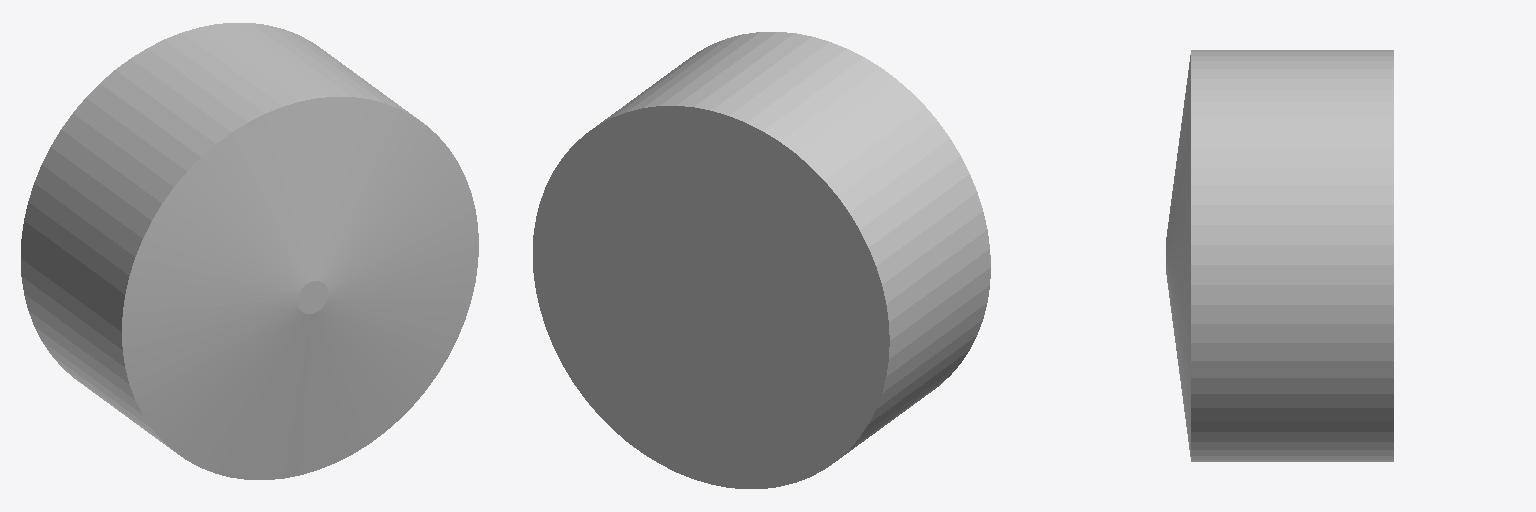
The model's file is Candle3aux.obj.
The picture shows the model from 3 angles: view 1: azimuth 30°, elevation 25°; view 2: azimuth 150°, elevation 25°; view 3: azimuth 270°, elevation 25°; orthographic projection.
Parts seen in each view (by area): view 1: Candle3aux_Cylinder.021; view 2: Candle3aux_Cylinder.021; view 3: Candle3aux_Cylinder.021.
Boxes of the visible parts, box(x1,y1,x2,y2) form: Candle3aux_Cylinder.021: box(21, 23, 478, 479); Candle3aux_Cylinder.021: box(533, 32, 990, 488); Candle3aux_Cylinder.021: box(1166, 50, 1393, 461).
Size of the model in its own units: 0.1829 by 0.1829 by 0.1008.